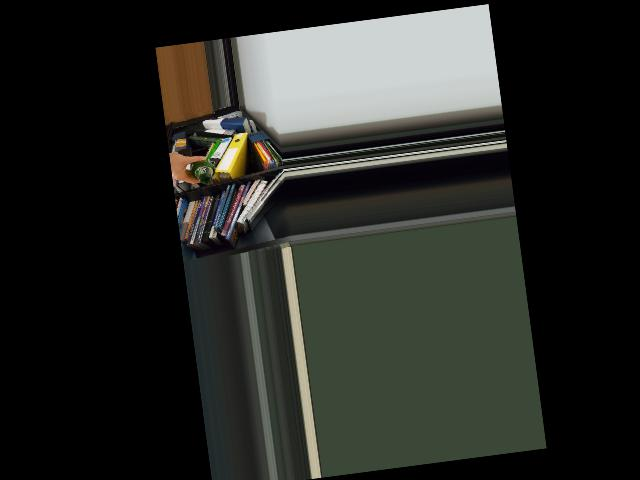beer: (190, 156, 216, 184)
